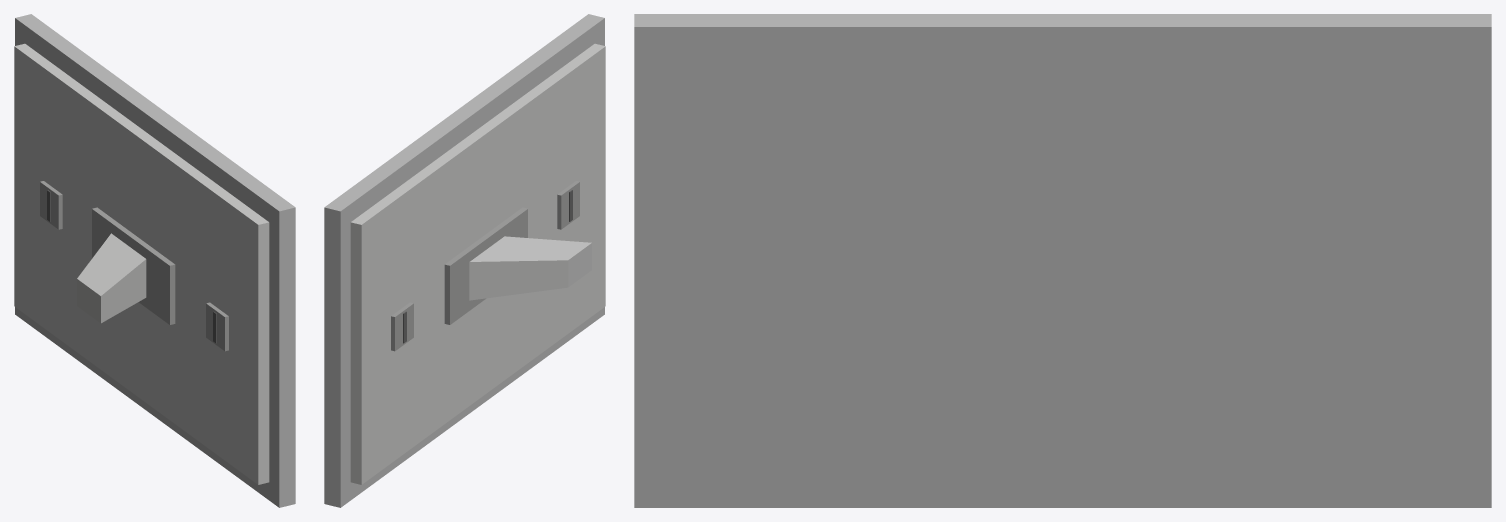
The model's file is switch.obj.
The picture shows the model from 3 angles, left to right: view 1: azimuth 30°, elevation 25°; view 2: azimuth 150°, elevation 25°; view 3: azimuth 270°, elevation 25°; orthographic projection. The views are drawn at different scales.
Size of the model in its own units: 0.0455 by 0.13 by 0.21.
1 material, 1 textured.
